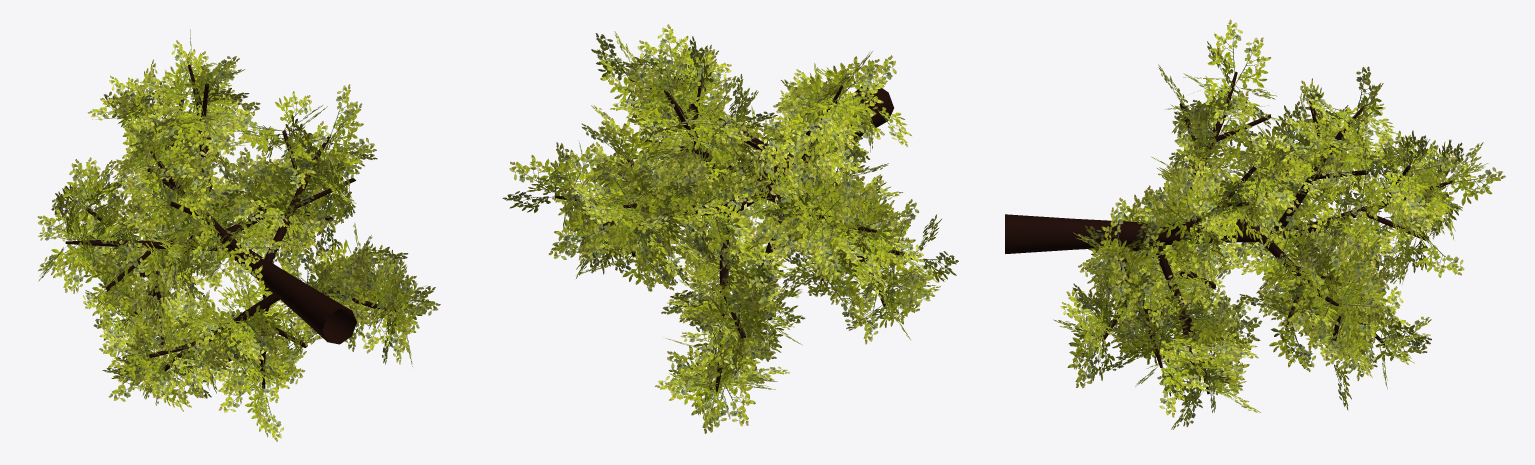
File: tree_002a.fbx
3 renders of one model, left to right at view 1: azimuth 30°, elevation 25°; view 2: azimuth 150°, elevation 25°; view 3: azimuth 270°, elevation 25°, orthographic. The views are drawn at different scales.
Visible parts, largest first — view 1: singleMesh_forUnityTerrainSys; view 2: singleMesh_forUnityTerrainSys; view 3: singleMesh_forUnityTerrainSys.
Boxes of the visible parts, left/top/right/bottom form: singleMesh_forUnityTerrainSys: left=37, top=29, right=440, bottom=441; singleMesh_forUnityTerrainSys: left=502, top=24, right=958, bottom=433; singleMesh_forUnityTerrainSys: left=1005, top=19, right=1505, bottom=429.
Bounding box in the file's own units: 781 × 761 × 916.
